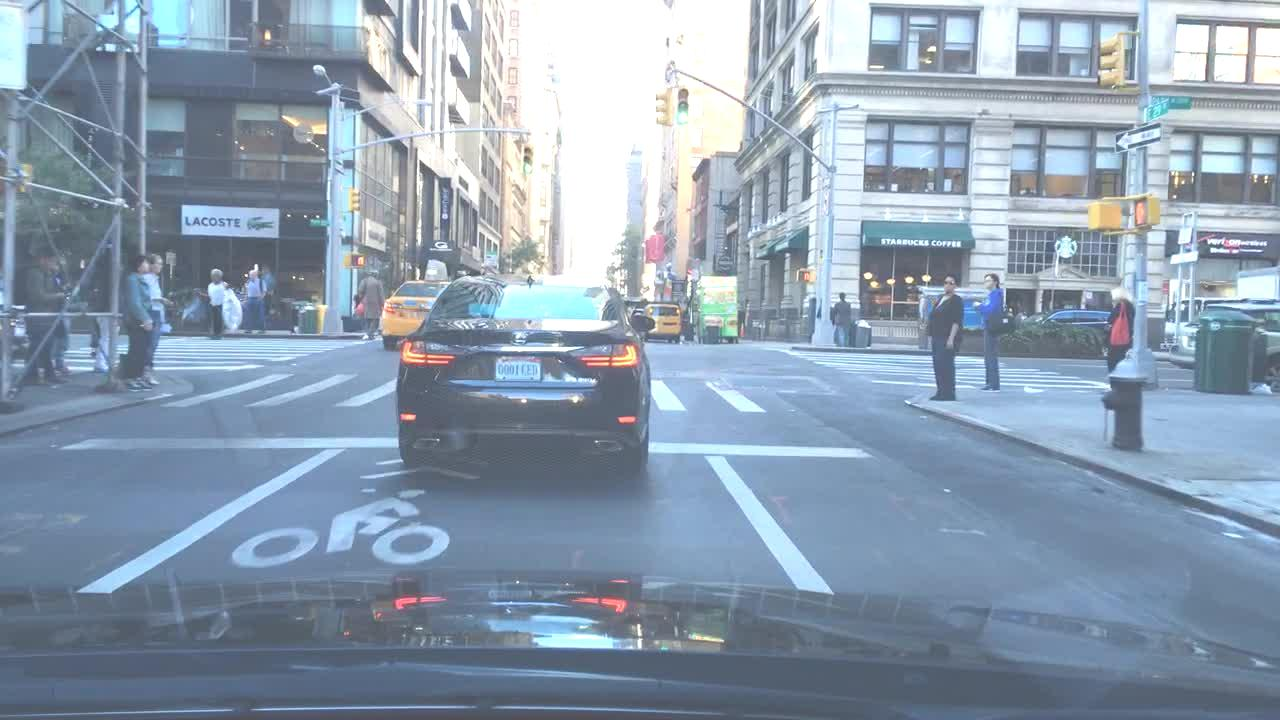lexus: (506, 328, 533, 351)
